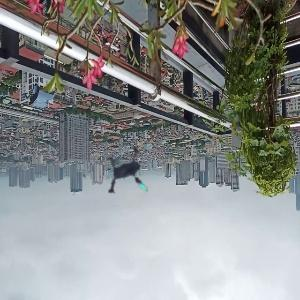drone: (92, 139, 176, 223)
